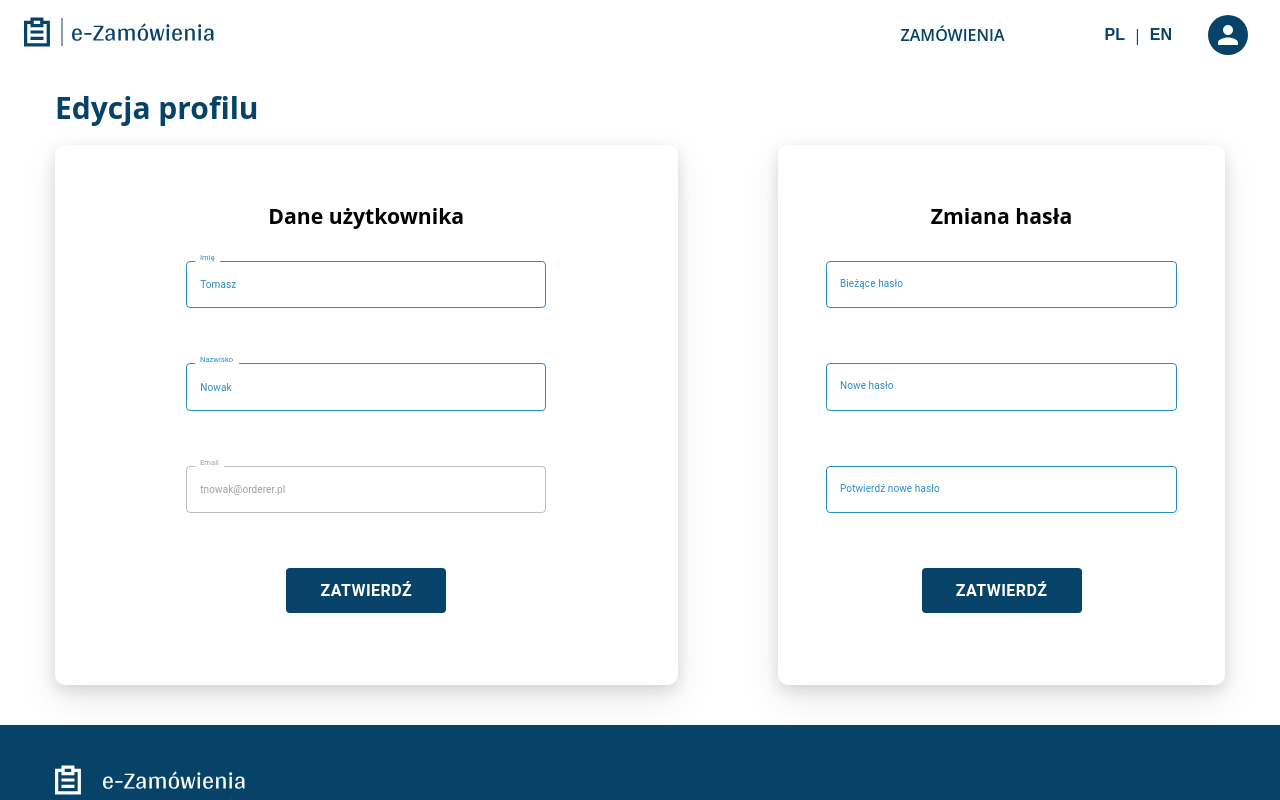
Test case: user profile view › check translations
Click the button "EN".
click(1161, 35)  # box [1142,18,1180,52]
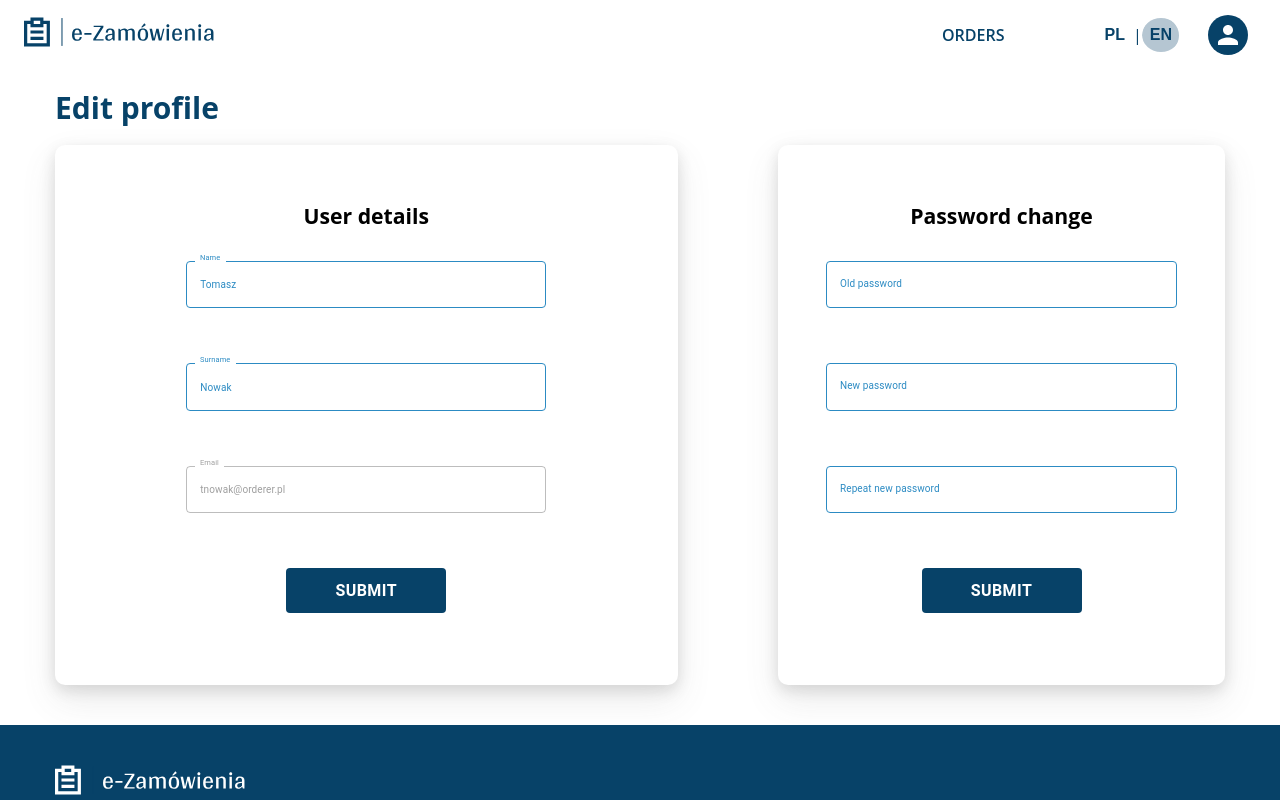
Check: the heading "Edit profile" is shown, box [55,87,219,128]
Check: the heading "User details" is shown, box [304,201,429,230]
Check: the heading "Password change" is shown, box [910,201,1093,230]
